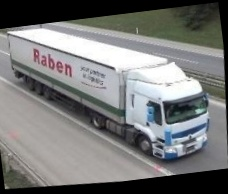truck: (0, 6, 225, 182)
